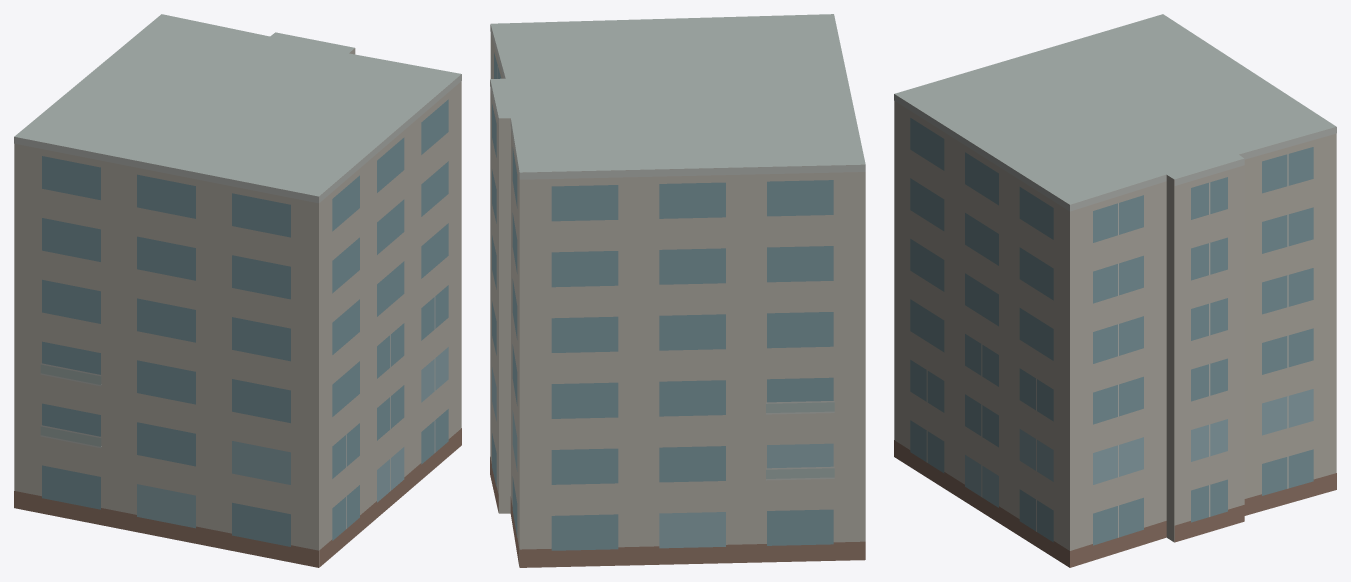
The model's file is survey-upis-32891681.glb.
3 views of the same model, side by side, from view 1: azimuth 30°, elevation 25°; view 2: azimuth 150°, elevation 25°; view 3: azimuth 270°, elevation 25° (orthographic). The views are drawn at different scales.
Parts seen in each view (by area): view 1: survey-upis-32891681.tmp; view 2: survey-upis-32891681.tmp; view 3: survey-upis-32891681.tmp.
Boxes of the visible parts, box(x1,y1,x2,y2) form: survey-upis-32891681.tmp: box(14, 14, 461, 567); survey-upis-32891681.tmp: box(490, 14, 865, 567); survey-upis-32891681.tmp: box(894, 14, 1336, 567).
Size of the model in its own units: 14.89 by 13.2 by 14.6.
